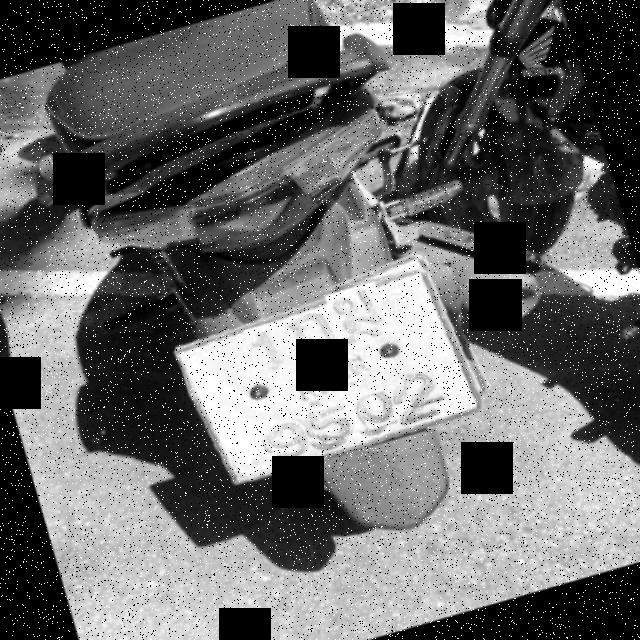letters: (324, 280, 386, 340), (398, 355, 457, 408), (262, 406, 314, 464), (307, 396, 368, 444), (282, 308, 338, 352), (242, 321, 286, 371), (357, 390, 397, 431)
license-plate: (175, 263, 484, 484)
province: (298, 348, 382, 395)
